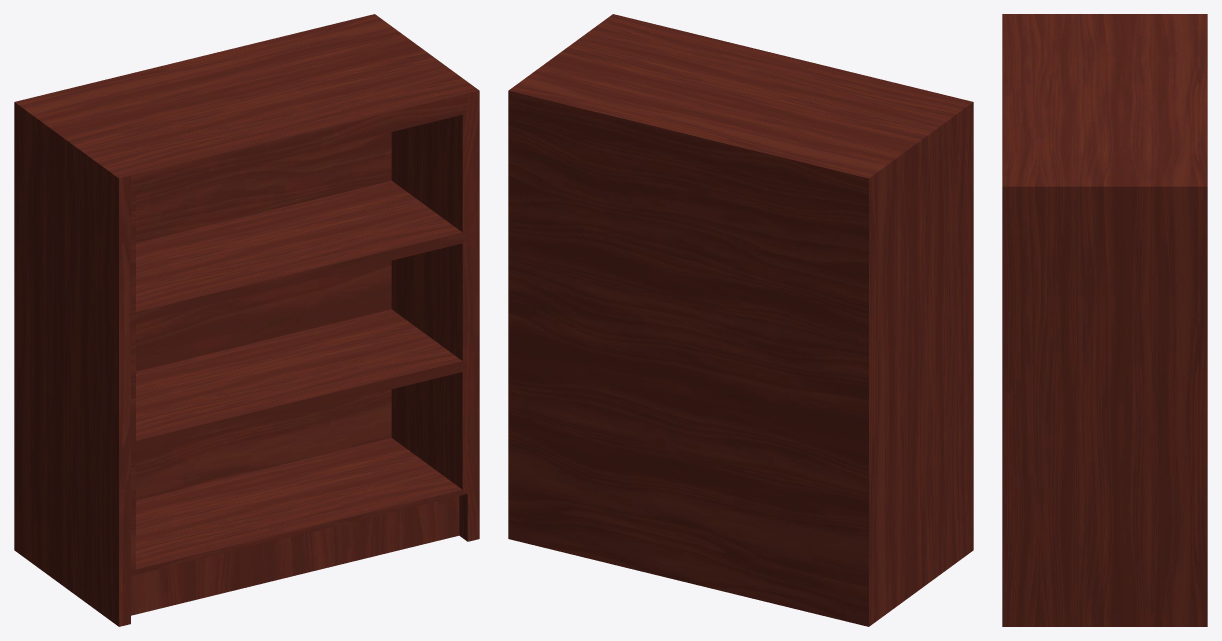
Rendered from BookShelf.FBX.
3 renders of one model, left to right at view 1: azimuth 30°, elevation 25°; view 2: azimuth 150°, elevation 25°; view 3: azimuth 270°, elevation 25°, orthographic.
Parts seen in each view (by area): view 1: BookShelf; view 2: BookShelf; view 3: BookShelf.
Boxes of the visible parts, x1,y1,x2,y2 form: BookShelf: [14, 14, 479, 626]; BookShelf: [508, 14, 973, 626]; BookShelf: [1002, 14, 1207, 626].
Bounding box in the file's own units: 27.88 × 33.12 × 14.02.
